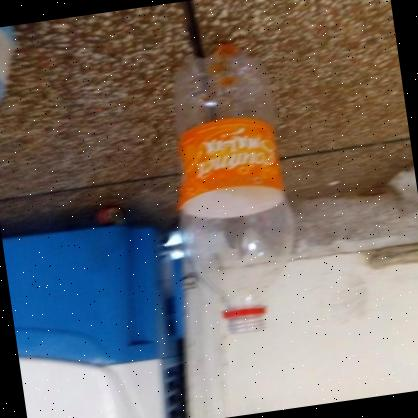bottle: (146, 30, 318, 350)
label: (171, 105, 292, 212)
